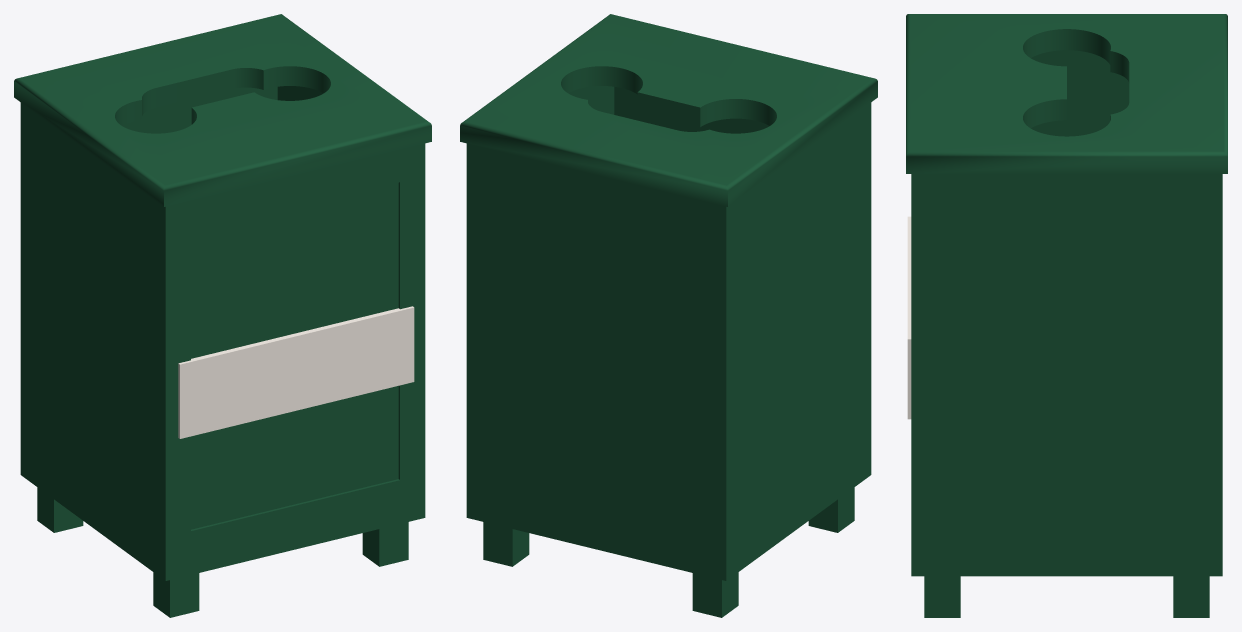
Rendered from recycling_bin.glb.
The picture shows the model from 3 angles, left to right: view 1: azimuth 30°, elevation 25°; view 2: azimuth 150°, elevation 25°; view 3: azimuth 270°, elevation 25°; orthographic projection. The views are drawn at different scales.
Parts seen in each view (by area): view 1: cabinet, lid, id_band, leg.001, leg.002, leg.003; view 2: cabinet, lid, leg.003, leg.004, leg.001; view 3: cabinet, lid, leg.002, leg.004, id_band.
Part boxes in pixels (<box>): cabinet: <box>20,86,425,580</box>; lid: <box>14,14,431,206</box>; id_band: <box>178,306,414,438</box>; leg.001: <box>153,572,199,617</box>; leg.002: <box>362,522,408,566</box>; leg.003: <box>37,487,83,532</box>; cabinet: <box>466,86,871,580</box>; lid: <box>460,14,877,206</box>; leg.003: <box>692,572,738,617</box>; leg.004: <box>483,522,529,566</box>; leg.001: <box>808,487,854,532</box>; cabinet: <box>911,50,1222,576</box>; lid: <box>906,14,1227,173</box>; leg.002: <box>924,576,960,617</box>; leg.004: <box>1173,576,1209,617</box>; id_band: <box>907,216,911,419</box>.
Bounding box in the file's own units: 0.64 × 1.01 × 0.62.
